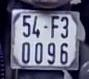0: (20, 40, 31, 64), (33, 41, 44, 65)
3: (60, 16, 70, 39)
4: (32, 15, 42, 38)
5: (21, 13, 33, 39)
6: (58, 42, 71, 66)
9: (45, 41, 58, 66)
F: (49, 14, 60, 39)
